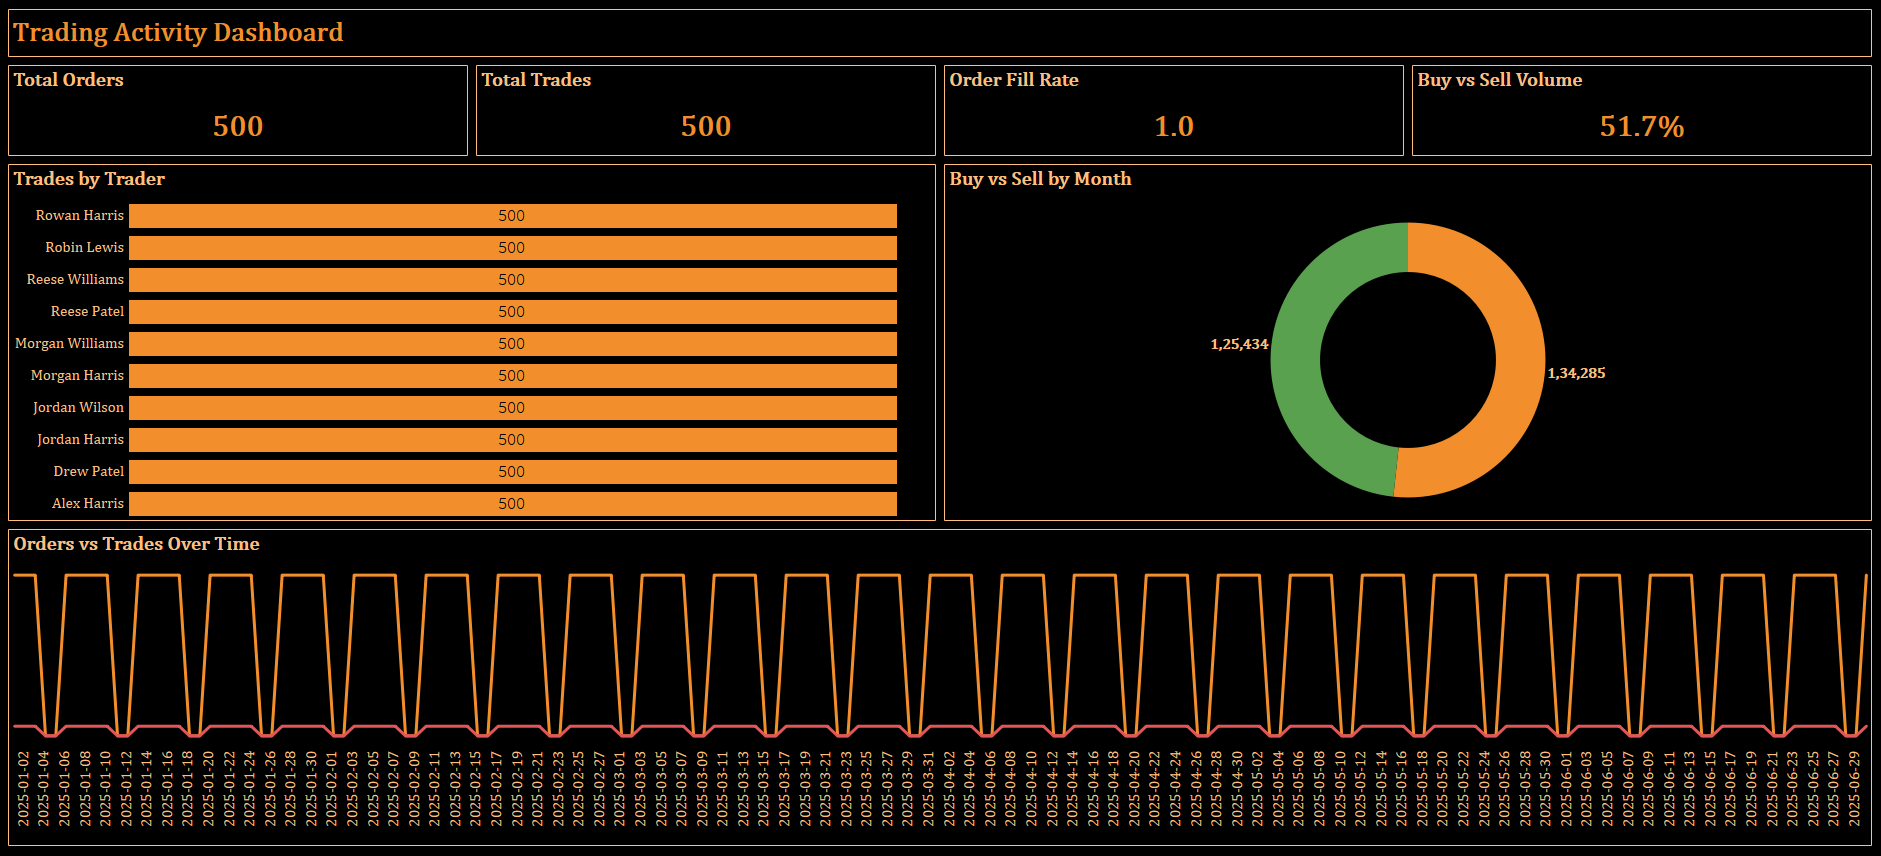

The page's visual inventory and layout, read from the dashboard file:
{"tool":"tableau","page":{"name":"Dashboard 2","canvas":[1000,1000],"units":"permille","ordinal":1},"visuals":[{"type":"text","box":[4.2,9.3,991.5,65]},{"type":"worksheet","title":"Total Orders","mark":"Automatic","box":[4.2,74.3,247.9,115]},{"type":"worksheet","title":"Total Trades","mark":"Automatic","box":[252.1,74.3,247.9,115]},{"type":"worksheet","title":"Order Fill Rate","mark":"Automatic","box":[500,74.3,247.9,115]},{"type":"worksheet","title":"Buy vs Sell Volume","mark":"Automatic","box":[747.9,74.3,247.9,115]},{"type":"worksheet","title":"Trades by Trader","mark":"Automatic","rows":["trader_name"],"cols":["trade_id"],"box":[4.2,189.3,495.8,423.9]},{"type":"worksheet","title":"Buy vs Sell by Month","mark":"Pie","rows":["Calculation_1425389304748011533","Calculation_1425389304748011533"],"box":[500,189.3,495.8,423.9]},{"type":"worksheet","title":"Orders vs Trades Over Time","mark":"Line","rows":["order_id","trader_id"],"cols":["date (dim!calendar)"],"box":[4.2,613.2,991.5,377.5]}]}

Visuals, with their boxes on the dashboard's canvas, which has no fixed pixel size, in thousandths of its width and height (x1, y1, x2, y2). These are canvas units, not pixel positions in the 1881x856 screenshot, which may show the page scaled, cropped or inside an application window:
text: bbox=[4, 9, 996, 74]
"Total Orders" worksheet: bbox=[4, 74, 252, 189]
"Total Trades" worksheet: bbox=[252, 74, 500, 189]
"Order Fill Rate" worksheet: bbox=[500, 74, 748, 189]
"Buy vs Sell Volume" worksheet: bbox=[748, 74, 996, 189]
"Trades by Trader" worksheet: bbox=[4, 189, 500, 613]
"Buy vs Sell by Month" worksheet (Pie marks): bbox=[500, 189, 996, 613]
"Orders vs Trades Over Time" worksheet (Line marks): bbox=[4, 613, 996, 991]
